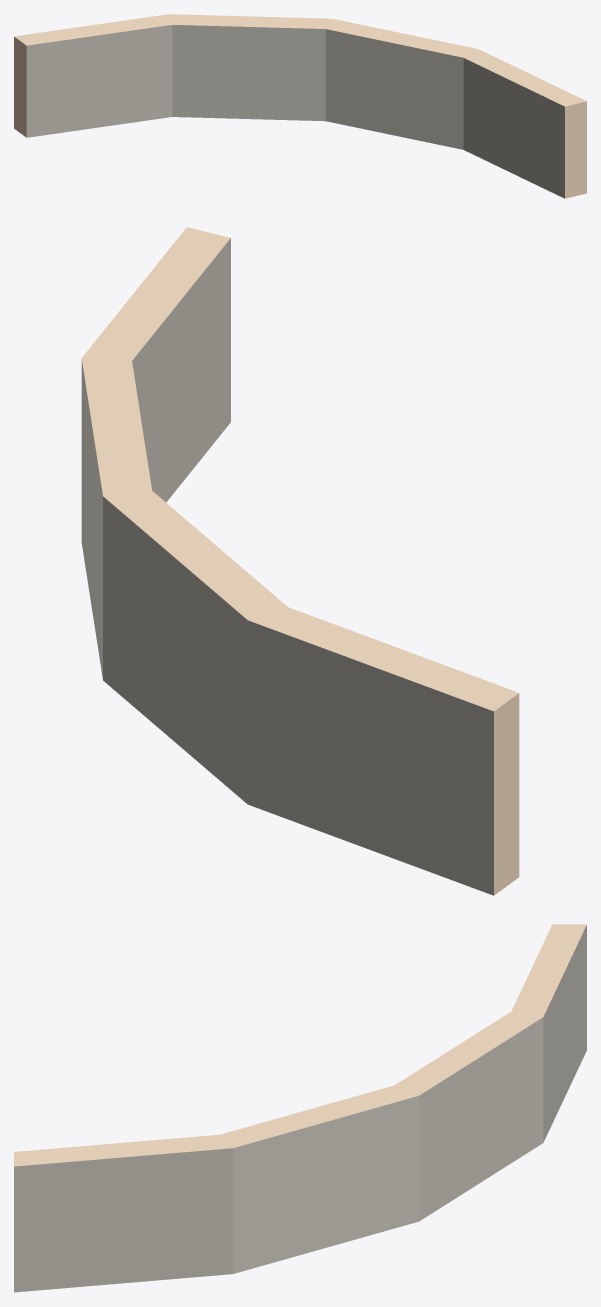
Rendered from Tiered_Retaining_Wall_Flat_Curve_4x4_Mid.glb.
3 renders of one model, top to bottom at view 1: azimuth 30°, elevation 25°; view 2: azimuth 150°, elevation 25°; view 3: azimuth 270°, elevation 25°, orthographic. The views are drawn at different scales.
Parts seen in each view (by area): view 1: Tiered_Retaining_Wall_Flat_Curve_4x4_Mid; view 2: Tiered_Retaining_Wall_Flat_Curve_4x4_Mid; view 3: Tiered_Retaining_Wall_Flat_Curve_4x4_Mid.
Boxes of the visible parts, <box> form: Tiered_Retaining_Wall_Flat_Curve_4x4_Mid: <box>14,14,586,198</box>; Tiered_Retaining_Wall_Flat_Curve_4x4_Mid: <box>81,227,519,895</box>; Tiered_Retaining_Wall_Flat_Curve_4x4_Mid: <box>14,924,586,1292</box>.
Size of the model in its own units: 412 by 100 by 413.
